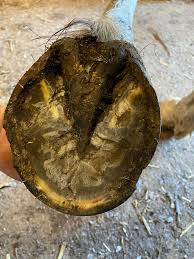horsesole: (3, 45, 161, 216)
